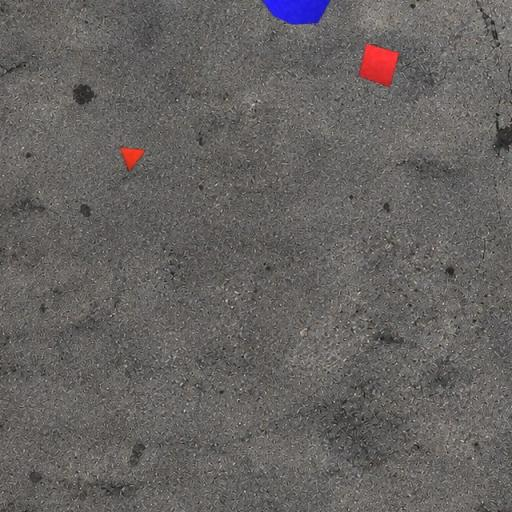RED_SQUARE: (358, 43, 400, 88)
